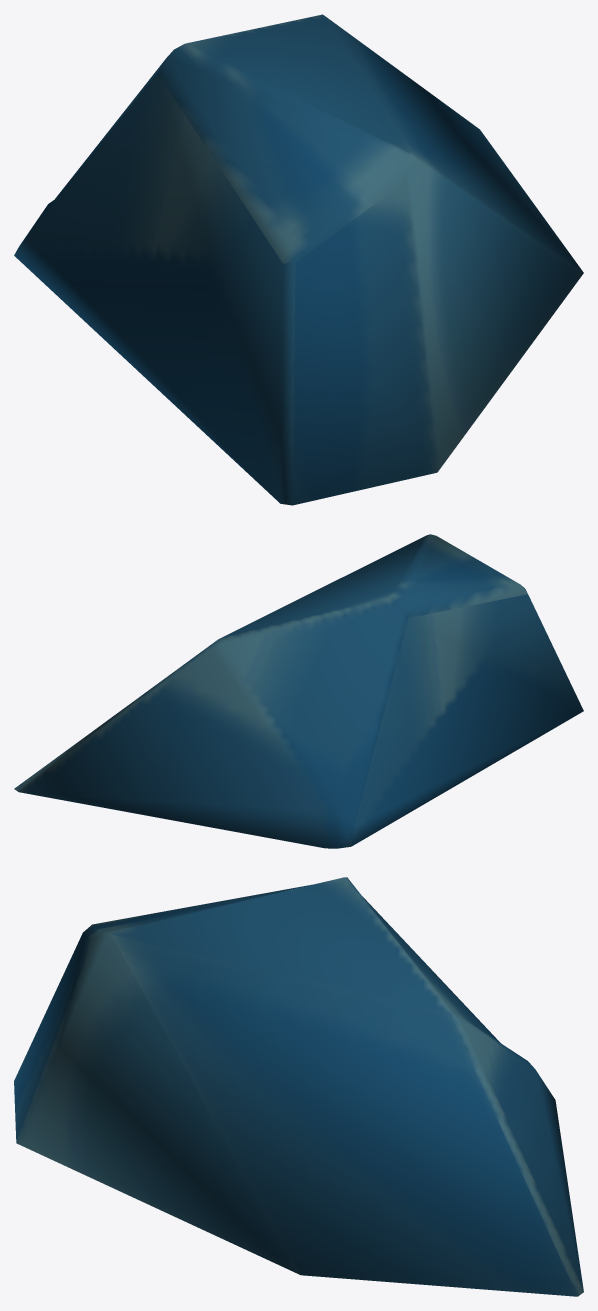
File: rock1.fbx
The picture shows the model from 3 angles, top to bottom: view 1: azimuth 30°, elevation 25°; view 2: azimuth 150°, elevation 25°; view 3: azimuth 270°, elevation 25°; orthographic projection. The views are drawn at different scales.
Parts seen in each view (by area): view 1: Rock01; view 2: Rock01; view 3: Rock01.
Part boxes in pixels (left/top/right/bottom): Rock01: left=14, top=14, right=583, bottom=505; Rock01: left=14, top=534, right=583, bottom=848; Rock01: left=14, top=877, right=583, bottom=1296.
Bounding box in the file's own units: 0.5659 × 0.303 × 0.6307.
